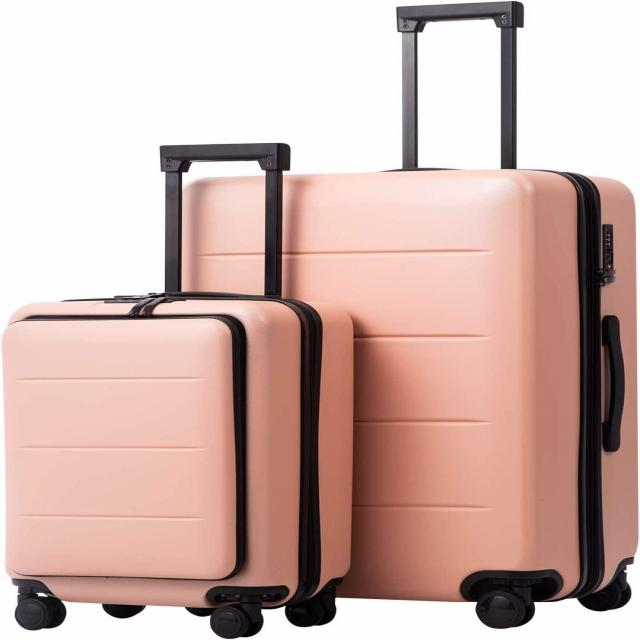luggage: (169, 150, 640, 613), (0, 276, 367, 619)
